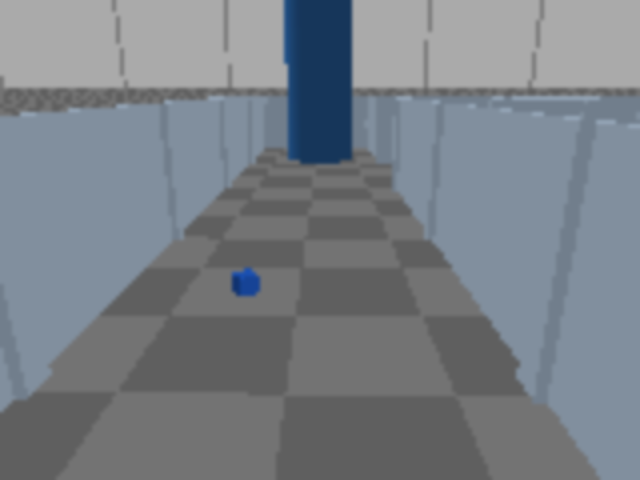puck: (232, 269, 259, 298)
